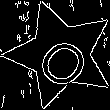O_NE: (27, 22, 94, 88)
